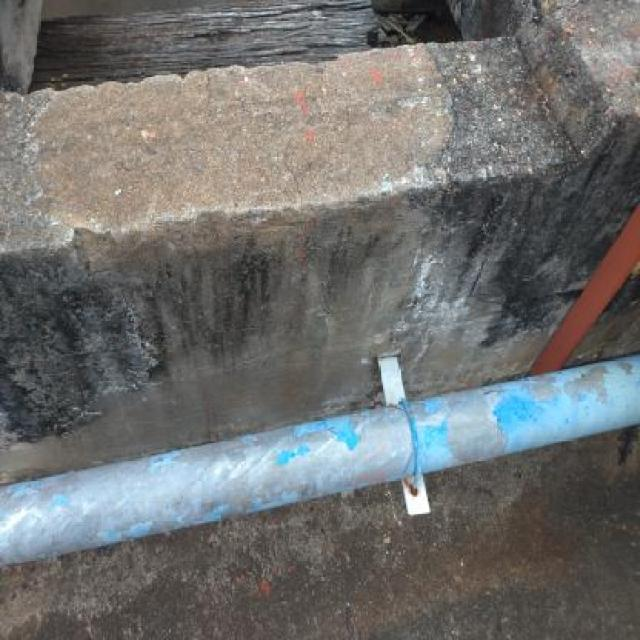gas: (0, 353, 637, 569)
